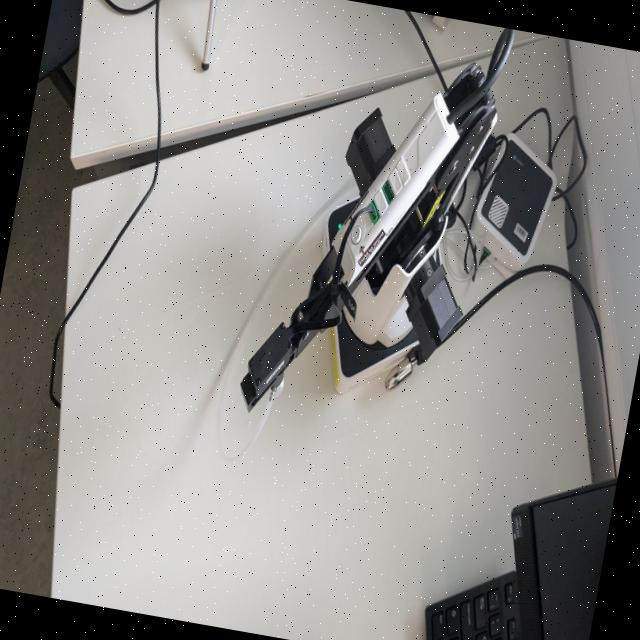Robot-end-effector-HF8z: (231, 313, 298, 424)
